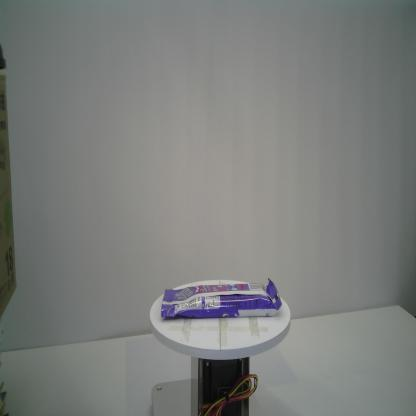Candy: (160, 277, 282, 319)
